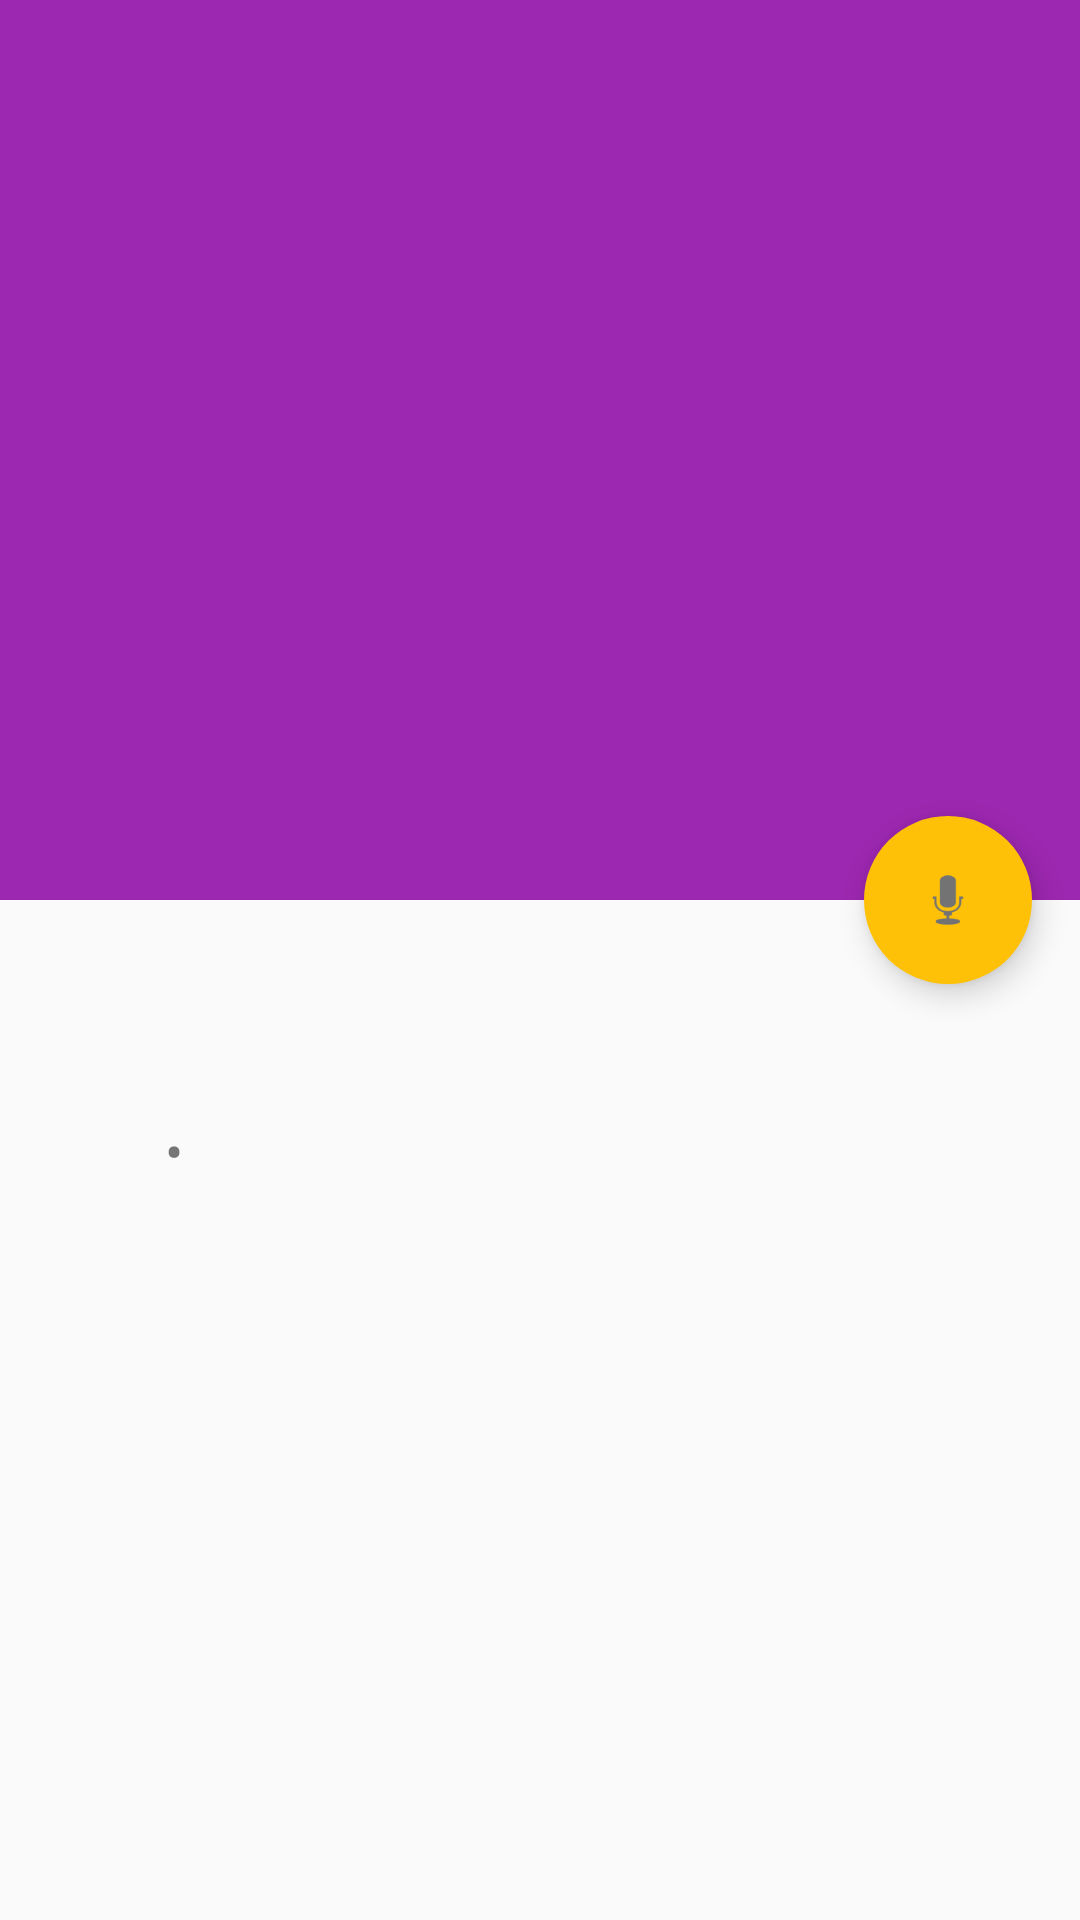

Where to tap for icons on this 1080 × 1920 app screen, as [x,y]:
speak now: [948,900]
